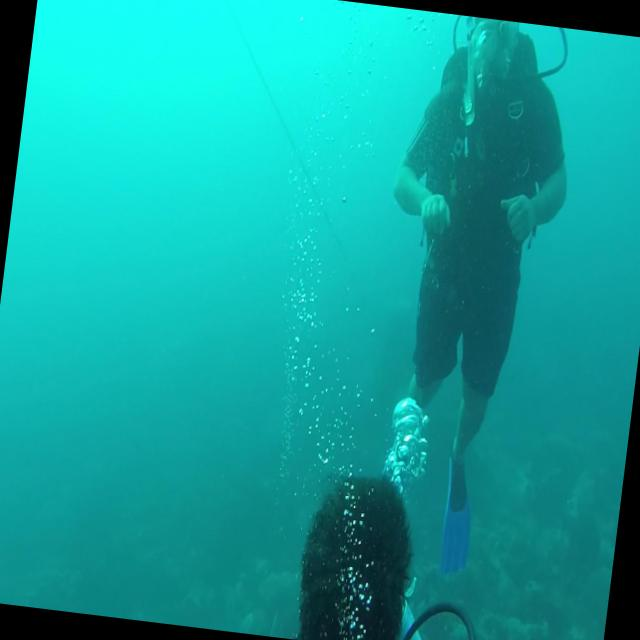human: (348, 9, 588, 584), (280, 465, 471, 640)
